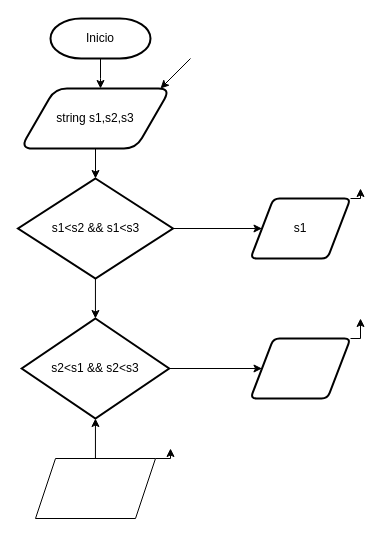
This 386x536 diagram has some shape labels left out. Here are the shapes that lost their labels. From the top down, the centre of each, then its label:
At pixel 300 368: "s2".
At pixel 95 488: "s3".
